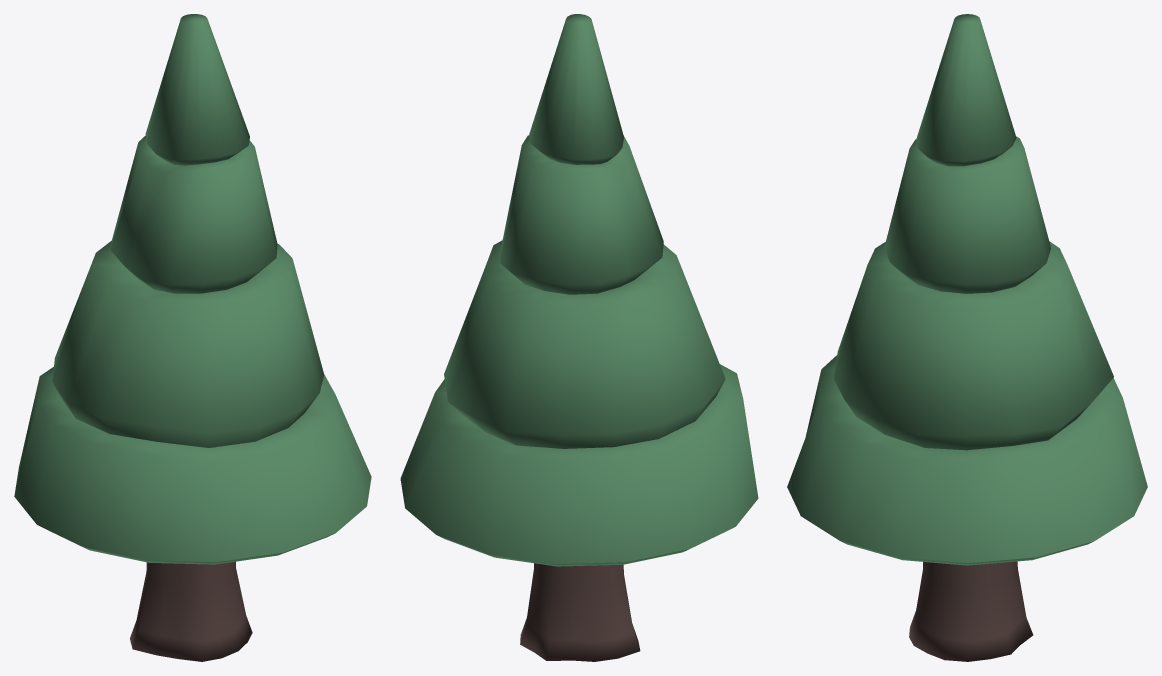
File: Tree1.fbx
3 renders of one model, left to right at view 1: azimuth 30°, elevation 25°; view 2: azimuth 150°, elevation 25°; view 3: azimuth 270°, elevation 25°, orthographic.
Parts seen in each view (by area): view 1: Tree1; view 2: Tree1; view 3: Tree1.
Boxes of the visible parts, x1,y1,x2,y2 form: Tree1: [14, 14, 371, 661]; Tree1: [400, 14, 758, 661]; Tree1: [787, 14, 1147, 661].
Size of the model in its own units: 1922 by 3637 by 1922.
